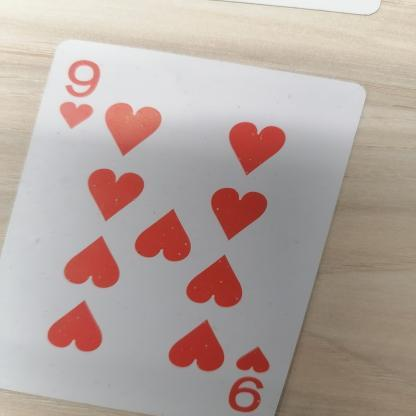9H: (50, 53, 121, 140), (222, 330, 274, 416)
